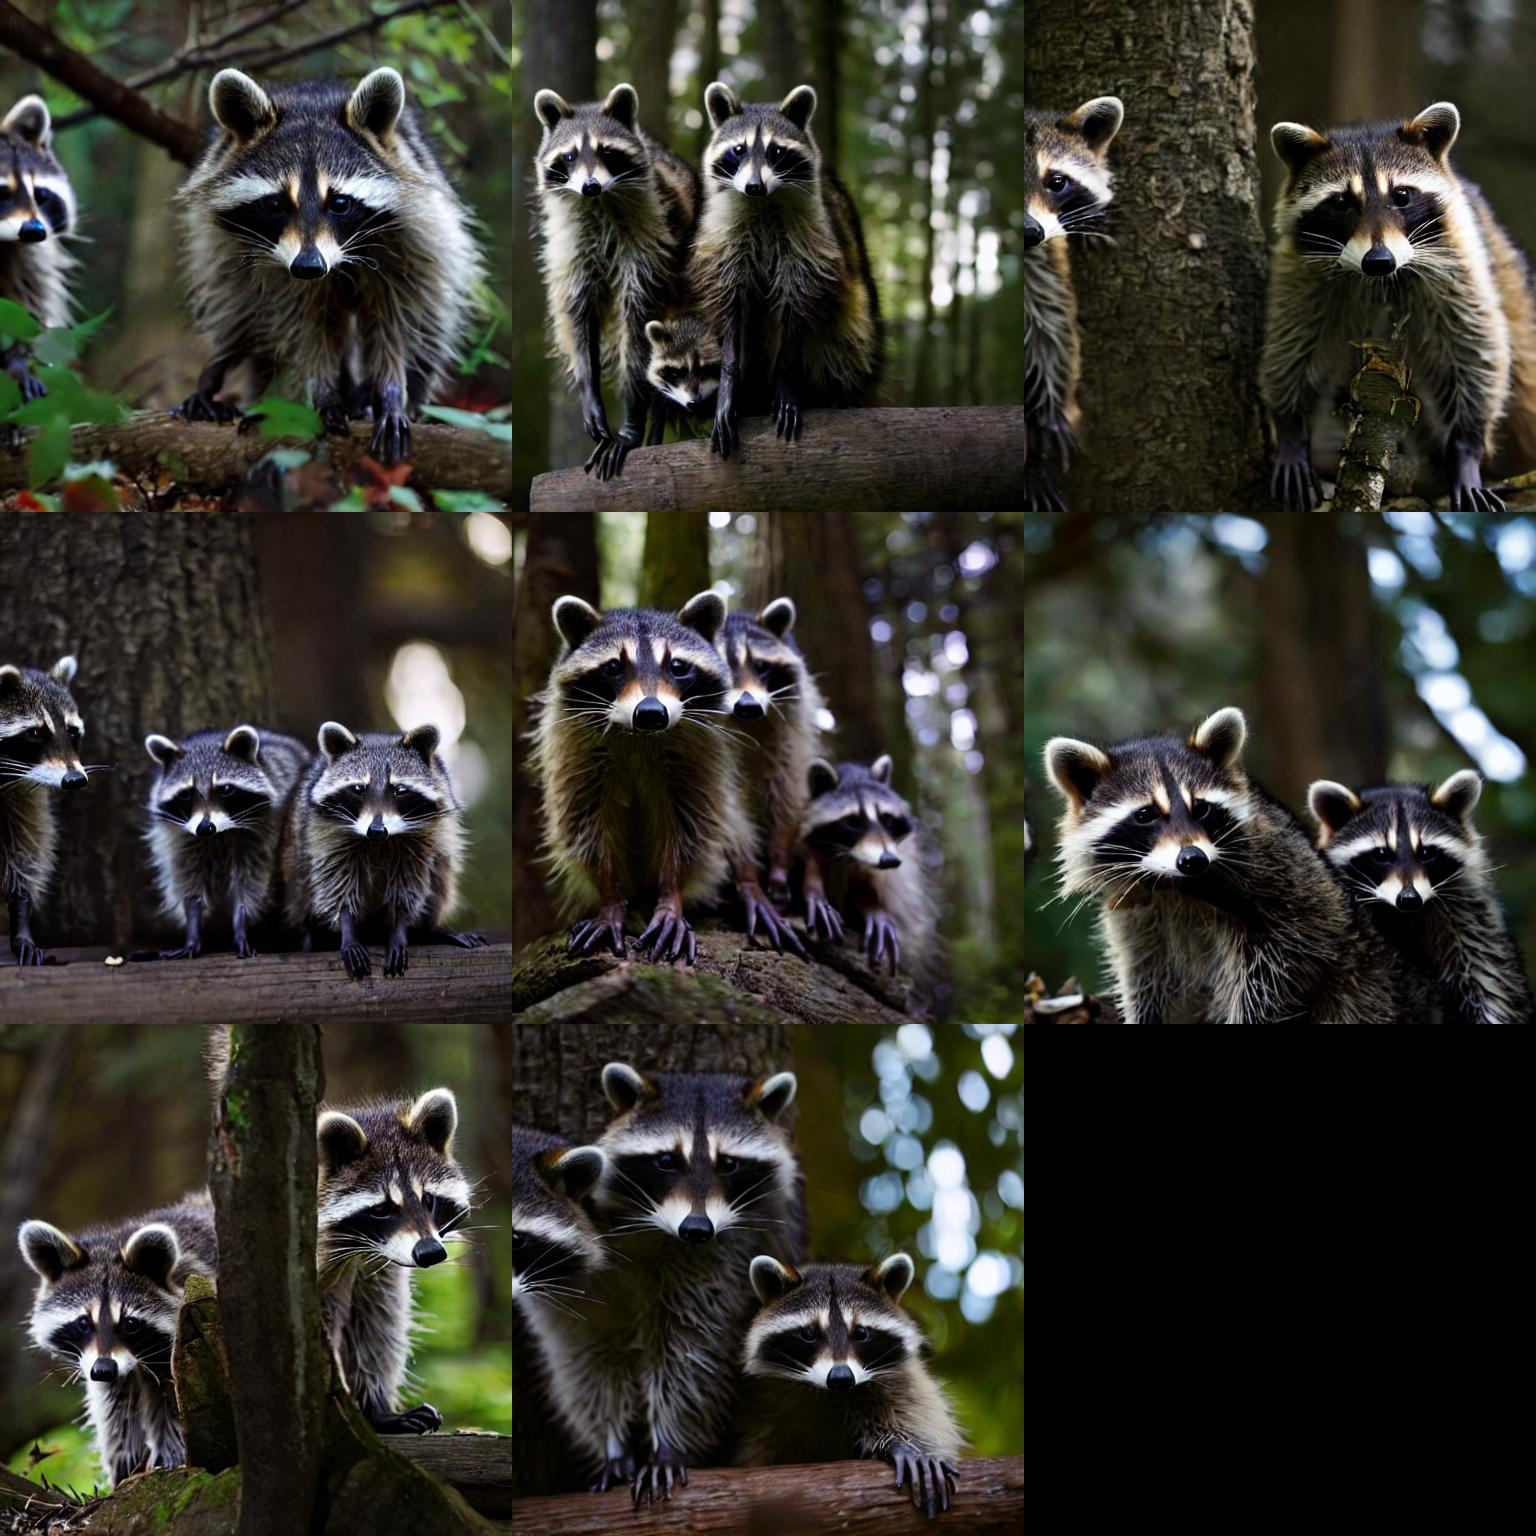raccoon: (1041, 692, 1388, 1024), (166, 59, 475, 402), (1245, 97, 1536, 450), (588, 1054, 810, 1387), (533, 578, 741, 904), (15, 1183, 219, 1471), (692, 77, 876, 388), (315, 1075, 487, 1391), (1303, 768, 1525, 1004), (740, 1248, 965, 1449), (530, 87, 684, 378), (1025, 86, 1142, 450), (300, 710, 470, 928), (129, 716, 312, 911), (719, 588, 831, 865), (0, 83, 100, 391), (513, 1127, 612, 1425), (800, 743, 940, 935), (0, 646, 94, 900), (637, 305, 733, 419)
